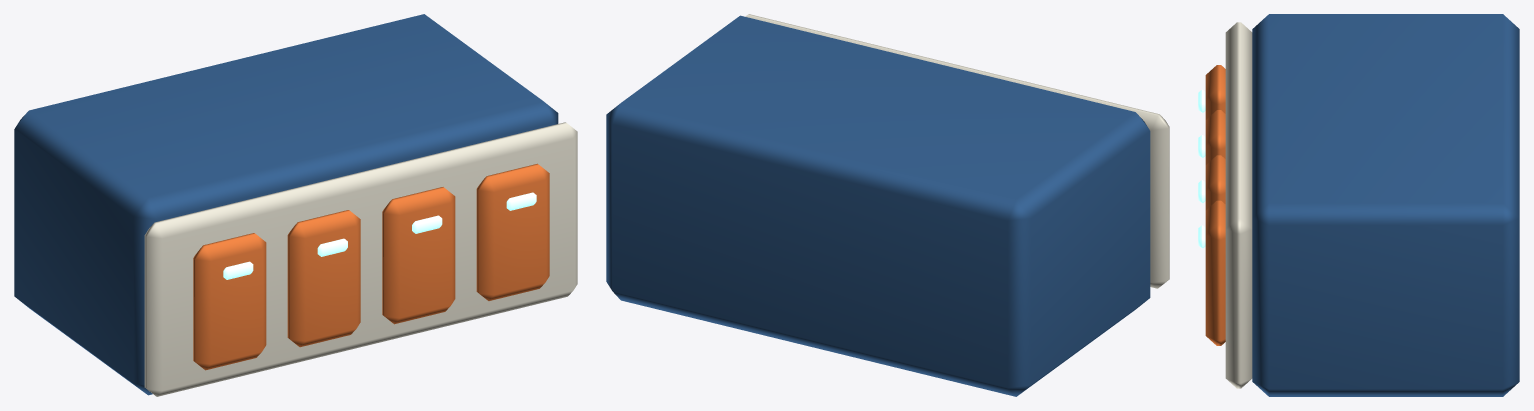
Rendered from Battery_Rack_Module.glb.
3 renders of one model, left to right at view 1: azimuth 30°, elevation 25°; view 2: azimuth 150°, elevation 25°; view 3: azimuth 270°, elevation 25°, orthographic.
Parts seen in each view (by area): view 1: Battery_Rack_Module; view 2: Battery_Rack_Module; view 3: Battery_Rack_Module.
Part boxes in pixels (x1,y1,x2,y2): Battery_Rack_Module: (14,14,577,396); Battery_Rack_Module: (606,14,1169,396); Battery_Rack_Module: (1198,14,1519,396).
Bounding box in the file's own units: 0.73 × 0.32 × 0.481.
